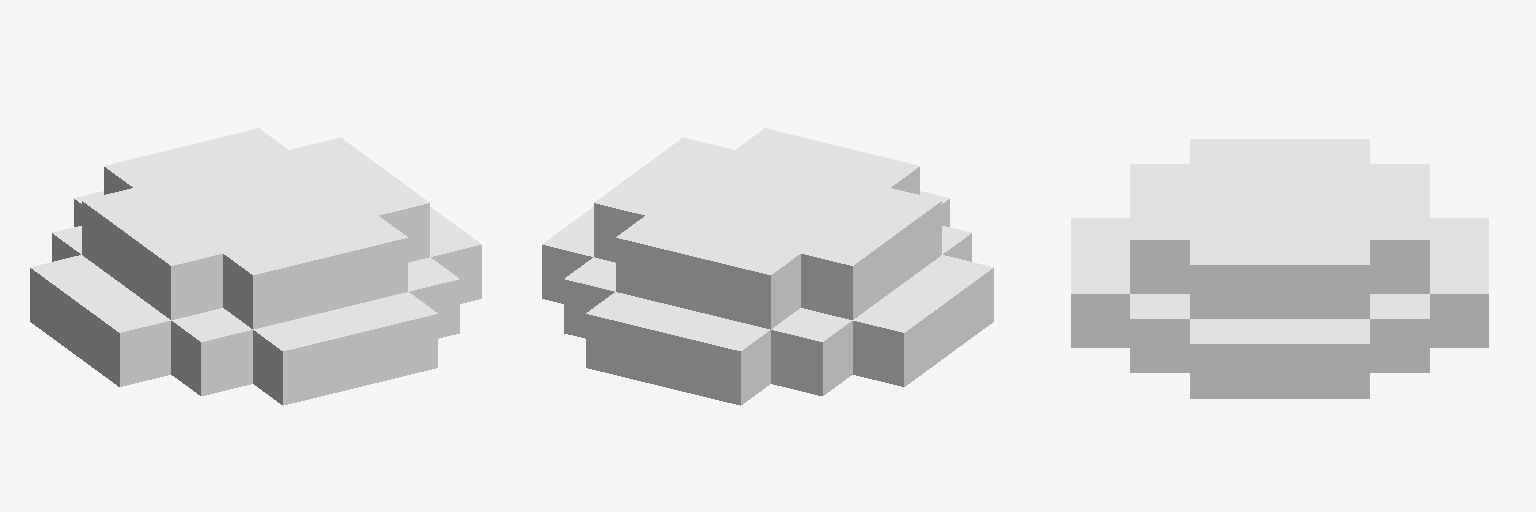
The model's file is Items-8.obj.
3 views of the same model, side by side, from view 1: azimuth 30°, elevation 25°; view 2: azimuth 150°, elevation 25°; view 3: azimuth 270°, elevation 25° (orthographic).
Parts seen in each view (by area): view 1: object 1; view 2: object 1; view 3: object 1.
Part boxes in pixels (left/top/right/bottom): object 1: left=30, top=128, right=481, bottom=405; object 1: left=542, top=128, right=993, bottom=405; object 1: left=1071, top=139, right=1488, bottom=398.
Bounding box in the file's own units: 0.7 × 0.2 × 0.7.